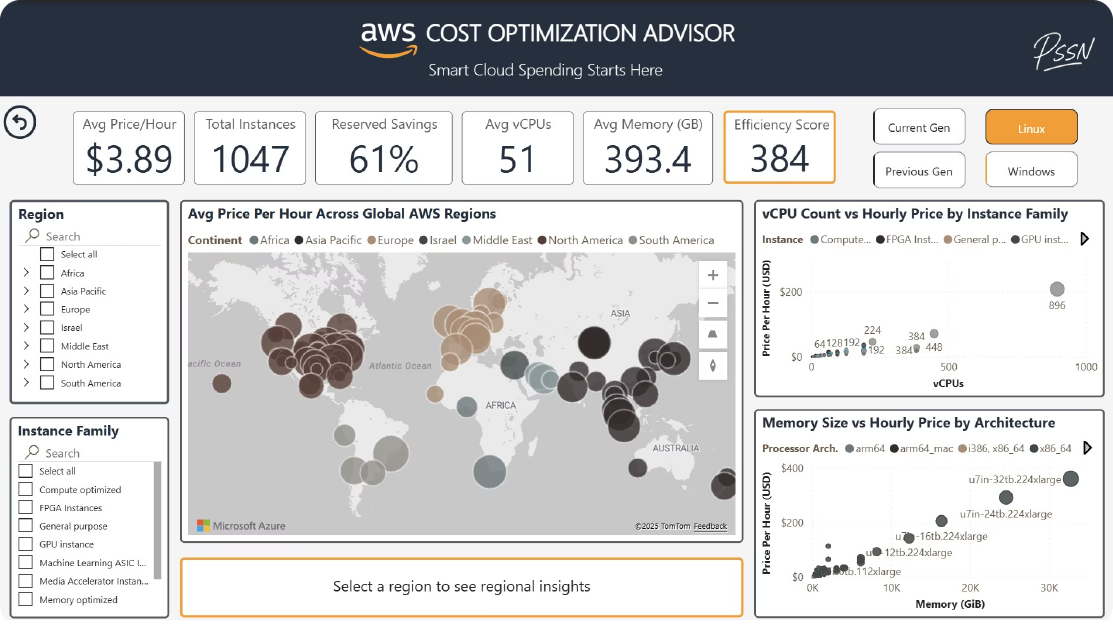

The dashboard page shown, as its layout file describes it:
{"tool":"powerbi","page":{"name":"Global EC2 Cost Intelligence","canvas":[1280,720],"ordinal":0},"visuals":[{"type":"shape","box":[0,0,1280.4,107.7],"z":0},{"type":"textbox","box":[426,10.4,441,57.7],"z":1000},{"type":"textbox","box":[488.6,58.4,302,38.1],"z":2000},{"type":"card","title":"Total Instances","fields":{"Values":["Dim_InstanceType.Total Instance Types"]},"box":[225.7,125.1,128.2,83.8],"z":3000},{"type":"card","title":"Reserved Savings","fields":{"Values":["Fact_Pricing.Reserved Savings % (Linux)"]},"box":[364.4,125.1,157.4,83.8],"z":4000},{"type":"card","title":"Avg vCPUs","fields":{"Values":["Dim_InstanceType.Avg vCPU"]},"box":[532.4,125.1,128.2,83.8],"z":5000},{"type":"card","title":"Avg Memory (GB)","fields":{"Values":["Dim_InstanceType.Avg Memory (GB)"]},"box":[671.1,125.1,148.5,83.8],"z":6000},{"type":"card","title":"Efficiency Score","fields":{"Values":["Dim_InstanceType.Cost Efficiency Score"]},"box":[832.3,124,128.4,83.8],"z":7000},{"type":"listSlicer","title":"Region","fields":{"Values":["Dim_Region.locationContinent","Dim_Region.locationName"]},"box":[14.1,226.3,182.8,233.9],"z":8000},{"type":"listSlicer","title":"Instance Family","fields":{"Values":["Dim_InstanceFamily.instanceFamilyName"]},"box":[14.1,474.3,182.8,230.6],"z":9000},{"type":"card","title":"Avg Price/Hour","fields":{"Values":["Fact_Pricing.Avg Linux Price Per Hour (On-Demand)"]},"box":[86.9,125.1,128.2,83.8],"z":10000},{"type":"scatterChart","title":"vCPU Count vs Hourly Price by Instance Family","fields":{"Y":["Fact_Pricing.Avg Linux Price Per Hour (On-Demand)"],"Series":["Dim_InstanceFamily.instanceFamilyName"],"Size":["Dim_InstanceType.Avg Memory (GB)"],"X":["Dim_InstanceType.vCpus"]},"box":[867,226.3,401.4,226.3],"z":11000},{"type":"scatterChart","title":"Memory Size vs Hourly Price by Architecture","fields":{"Y":["Fact_Pricing.Avg Linux Price Per Hour (On-Demand)"],"Category":["Dim_InstanceType.instanceType"],"X":["Avg(Dim_InstanceType.memorySizeInGiB)"],"Series":["Dim_Architecture.processorArchitectures"],"Size":["Dim_InstanceType.Avg Memory (GB)"]},"box":[867,465.6,401.4,239.3],"z":12000},{"type":"image","box":[391.6,2.2,113.1,77.2],"z":13000},{"type":"azureMap","title":"Avg Price Per Hour Across Global AWS Regions","fields":{"Size":["Fact_Pricing.Avg Linux Price Per Hour (On-Demand)"],"Category":["Dim_Region.locationName"],"Series":["Dim_Region.locationContinent"]},"box":[209.4,226.6,645.3,392.9],"z":14000},{"type":"advancedSlicerVisual","title":"Current Gen","fields":{"Values":["Dim_InstanceType.currentGeneration"]},"box":[997.5,115.3,116.4,103.3],"z":15000},{"type":"actionButton","box":[7,117.2,37.5,38.7],"z":18000},{"type":"card","fields":{"Values":["Fact_Pricing.Dynamic Regional Insight"]},"box":[209.4,635.5,645.3,69],"z":19000},{"type":"image","box":[1165.1,0,114.5,115.8],"z":20000},{"type":"advancedSlicerVisual","fields":{"Values":["Parameter.Parameter"]},"box":[1126.7,116.6,116.6,101.8],"z":21000}]}

Visuals, with their boxes in screenshot pixels (x1, y1, x2, y2), scaled from the page's 1280x720 canvas onto the 1113x632 screenshot:
shape: [x1=0, y1=0, x2=1112, y2=95]
textbox: [x1=370, y1=9, x2=754, y2=60]
textbox: [x1=425, y1=51, x2=687, y2=85]
"Total Instances" card: [x1=196, y1=110, x2=308, y2=183]
"Reserved Savings" card: [x1=317, y1=110, x2=454, y2=183]
"Avg vCPUs" card: [x1=463, y1=110, x2=574, y2=183]
"Avg Memory (GB)" card: [x1=584, y1=110, x2=713, y2=183]
"Efficiency Score" card: [x1=724, y1=109, x2=835, y2=182]
"Region" listSlicer: [x1=12, y1=199, x2=171, y2=404]
"Instance Family" listSlicer: [x1=12, y1=416, x2=171, y2=619]
"Avg Price/Hour" card: [x1=76, y1=110, x2=187, y2=183]
"vCPU Count vs Hourly Price by Instance Family" scatterChart: [x1=754, y1=199, x2=1103, y2=397]
"Memory Size vs Hourly Price by Architecture" scatterChart: [x1=754, y1=409, x2=1103, y2=619]
image: [x1=341, y1=2, x2=439, y2=70]
"Avg Price Per Hour Across Global AWS Regions" azureMap: [x1=182, y1=199, x2=743, y2=544]
"Current Gen" advancedSlicerVisual: [x1=867, y1=101, x2=969, y2=192]
actionButton: [x1=6, y1=103, x2=39, y2=137]
card - Fact_Pricing.Dynamic Regional Insight: [x1=182, y1=558, x2=743, y2=618]
image: [x1=1013, y1=0, x2=1112, y2=102]
advancedSlicerVisual - Parameter.Parameter: [x1=980, y1=102, x2=1081, y2=192]
